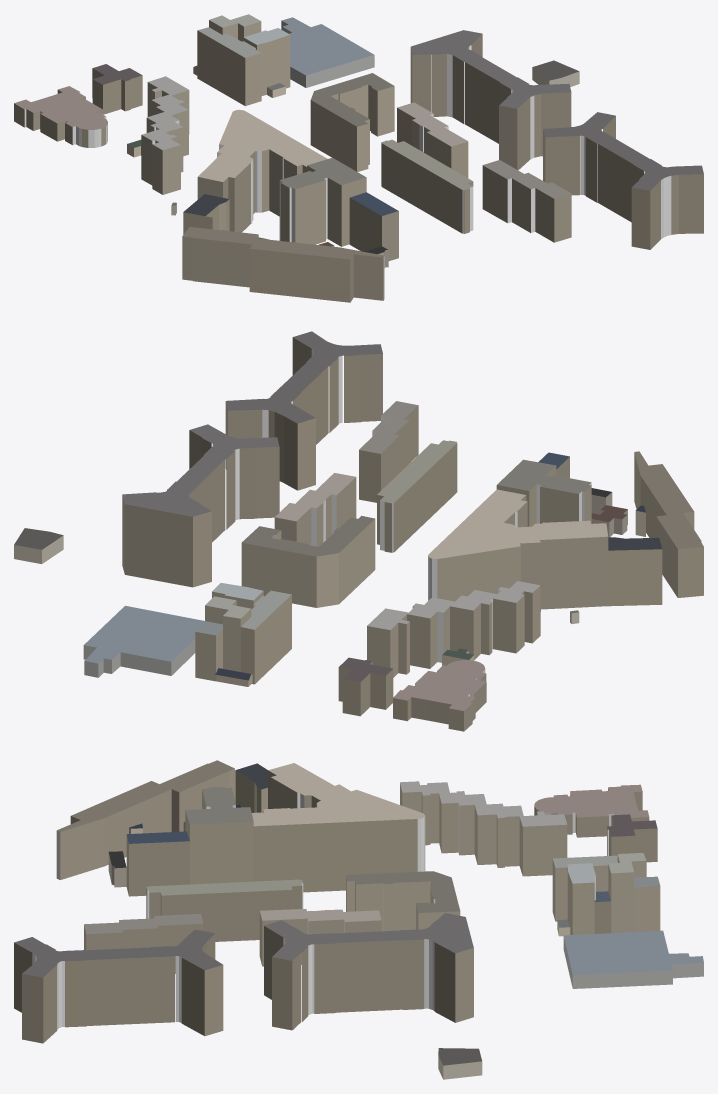
3 views of the same model, one above another, from view 1: azimuth 30°, elevation 25°; view 2: azimuth 150°, elevation 25°; view 3: azimuth 270°, elevation 25° (orthographic). The views are drawn at different scales.
Parts seen in each view (by area): view 1: tuile; view 2: tuile; view 3: tuile.
Boxes of the visible parts, x1,y1,x2,y2 form: tuile: (14,14,703,302); tuile: (14,331,703,731); tuile: (14,760,703,1079).
Bounding box in the file's own units: 272 × 36.26 × 293.
